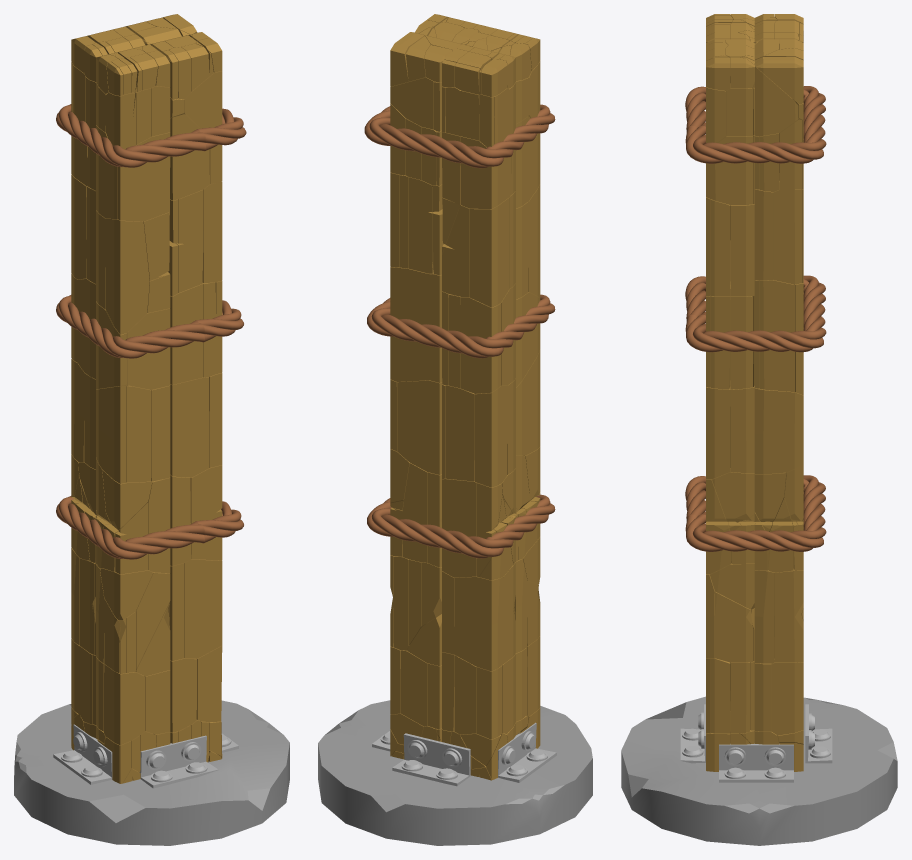
3 views of the same model, side by side, from view 1: azimuth 30°, elevation 25°; view 2: azimuth 150°, elevation 25°; view 3: azimuth 270°, elevation 25° (orthographic).
Parts seen in each view (by area): view 1: Circle.009, Cube.149_cell.032, seil.009, seil.004, seil.008, Cube.146_cell.024, Cube.146_cell.057, Cube.149_cell.093, Cube.149_cell.090, Cube.149_cell.083, Plane.013, Cube.149_cell.098 (+52 smaller); view 2: Circle.009, Cube.148_cell.086, seil.009, seil.004, seil.008, Cube.147_cell.076, Cube.148_cell.016, Cube.147_cell.034, Cube.148_cell.085, Cube.148_cell.017, Plane.012, Cube.148_cell.079 (+63 smaller); view 3: Circle.009, seil.009, seil.004, seil.008, Cube.147_cell.029, Cube.147_cell.061, Plane.011, Cube.147_cell.028, Cube.147_cell.036, Cube.147_cell.046, Cube.146_cell.020, Cube.146_cell.096 (+31 smaller).
Part boxes in pixels (box(x1,y1,x2,y2)): Circle.009: box(14, 700, 289, 845); Cube.149_cell.032: box(105, 218, 149, 334); seil.009: box(56, 104, 246, 167); seil.004: box(56, 496, 243, 559); seil.008: box(56, 295, 243, 358); Cube.146_cell.024: box(170, 377, 209, 477); Cube.146_cell.057: box(184, 559, 222, 658); Cube.149_cell.093: box(117, 132, 170, 221); Cube.149_cell.090: box(104, 664, 145, 745); Cube.149_cell.083: box(96, 385, 126, 483); Plane.013: box(139, 735, 218, 788); Cube.149_cell.098: box(118, 385, 151, 482); Circle.009: box(318, 700, 592, 845); Cube.148_cell.086: box(454, 576, 503, 671); seil.009: box(364, 104, 555, 168); seil.004: box(367, 494, 555, 558); seil.008: box(367, 294, 555, 358); Cube.147_cell.076: box(397, 380, 442, 474); Cube.148_cell.016: box(470, 197, 509, 307); Cube.147_cell.034: box(390, 263, 432, 381); Cube.148_cell.085: box(474, 385, 507, 487); Cube.148_cell.017: box(460, 297, 500, 393); Plane.012: box(392, 733, 470, 786); Cube.148_cell.079: box(445, 385, 474, 481); Circle.009: box(621, 696, 897, 845); seil.009: box(685, 86, 826, 163); seil.004: box(685, 475, 826, 551); seil.008: box(685, 275, 826, 352); Cube.147_cell.029: box(754, 388, 803, 474); Cube.147_cell.061: box(759, 280, 794, 391); Plane.011: box(719, 743, 793, 782); Cube.147_cell.028: box(775, 569, 803, 662); Cube.147_cell.036: box(774, 182, 801, 284); Cube.147_cell.046: box(771, 660, 803, 735); Cube.146_cell.020: box(714, 592, 752, 662); Cube.146_cell.096: box(730, 204, 754, 296).
Size of the model in its own units: 132 by 394 by 132.
